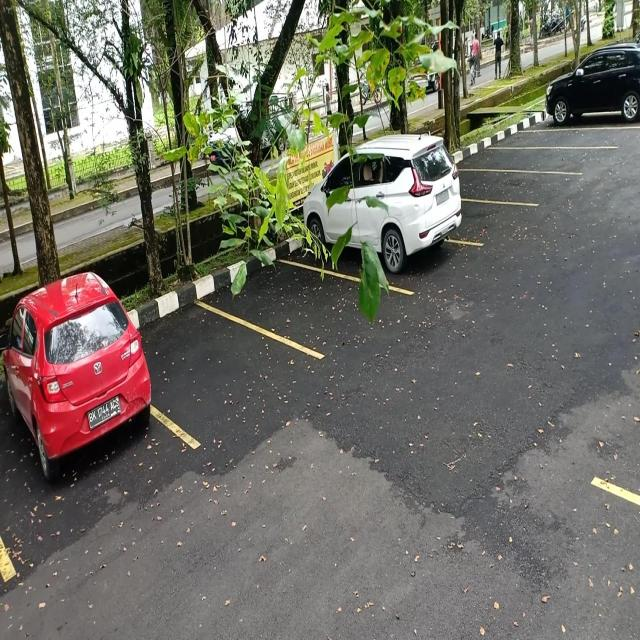empty: (141, 307, 278, 435), (221, 259, 355, 346), (462, 168, 554, 205), (478, 146, 600, 172), (517, 128, 624, 150)
occupied: (1, 351, 163, 482), (301, 196, 465, 284), (543, 77, 640, 130)
